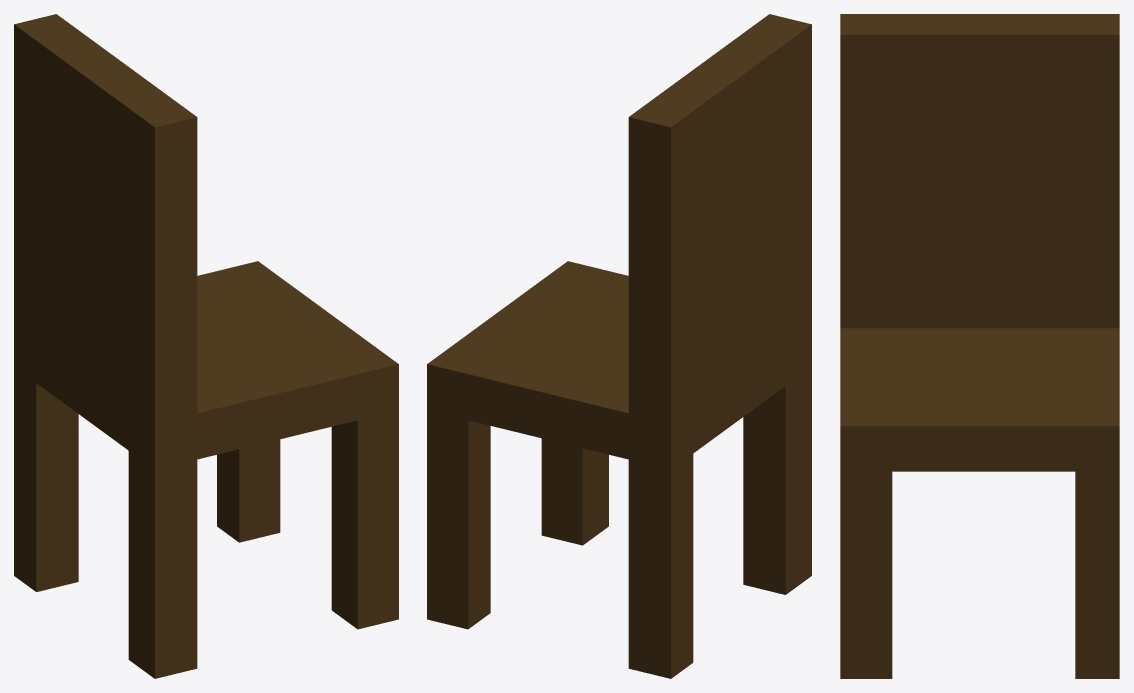
File: chair.fbx
The picture shows the model from 3 angles, left to right: view 1: azimuth 30°, elevation 25°; view 2: azimuth 150°, elevation 25°; view 3: azimuth 270°, elevation 25°; orthographic projection.
Visible parts, largest first — view 1: Cube; view 2: Cube; view 3: Cube.
Part boxes in pixels (bbox=[...]): Cube: bbox=[14, 14, 398, 678]; Cube: bbox=[427, 14, 811, 678]; Cube: bbox=[840, 14, 1119, 678].
Size of the model in its own units: 60 by 130 by 60.
